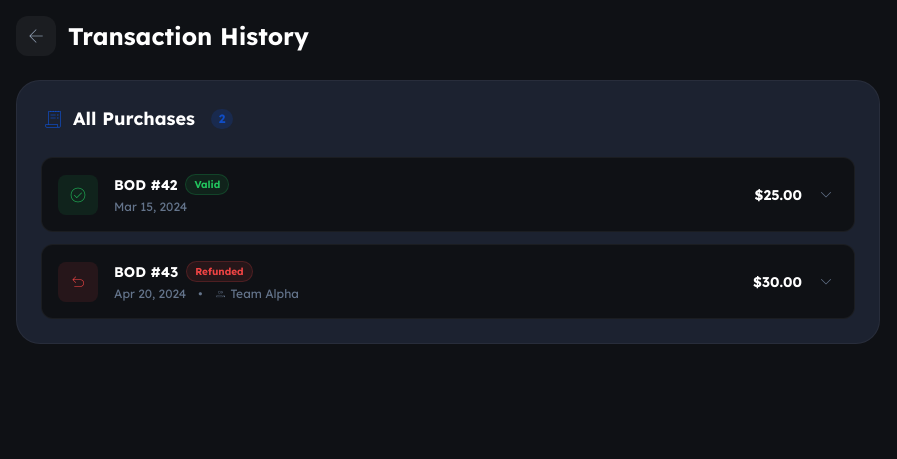
Test: TransactionHistory › expands transaction details on click
This screenshot has width=897, height=459.
Expected: the link "BOD #42" is shown, x1=114 y1=174 x2=177 y2=194
Note: Click to expand first transaction
Click the button "BOD #42 Valid Mar 15, 2024 $25.00". click: click(78, 194)
box: x1=42 y1=158 x2=854 y2=231
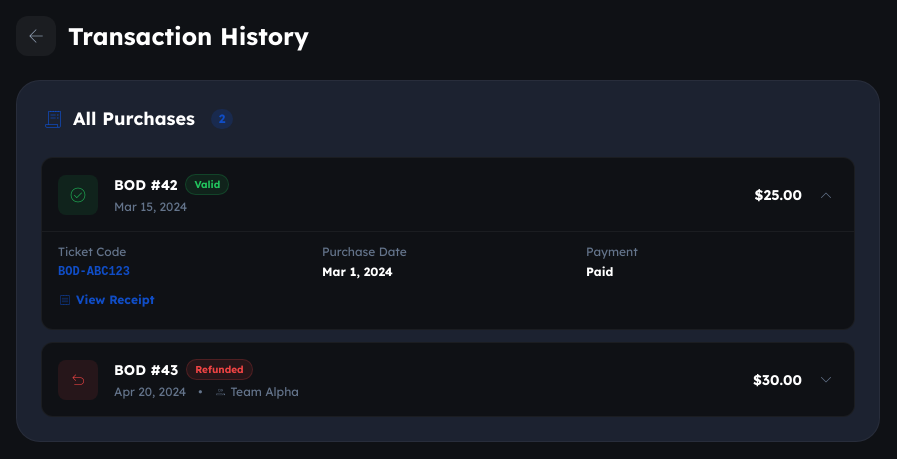
Result: the text "BOD-ABC123" is shown at x1=58 y1=265 x2=130 y2=279
